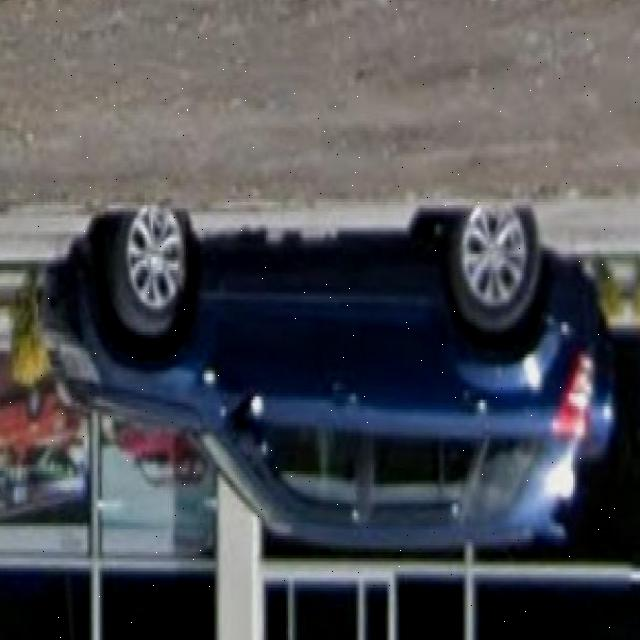car: (35, 192, 611, 546)
